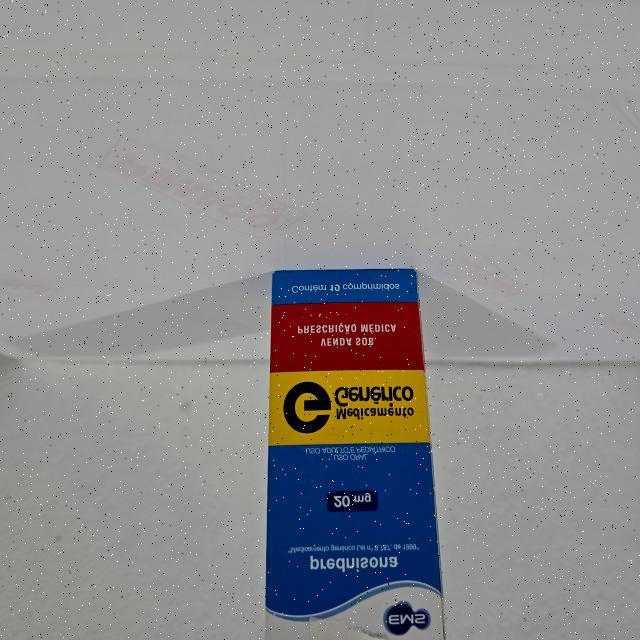prednisona: (262, 264, 449, 640)
